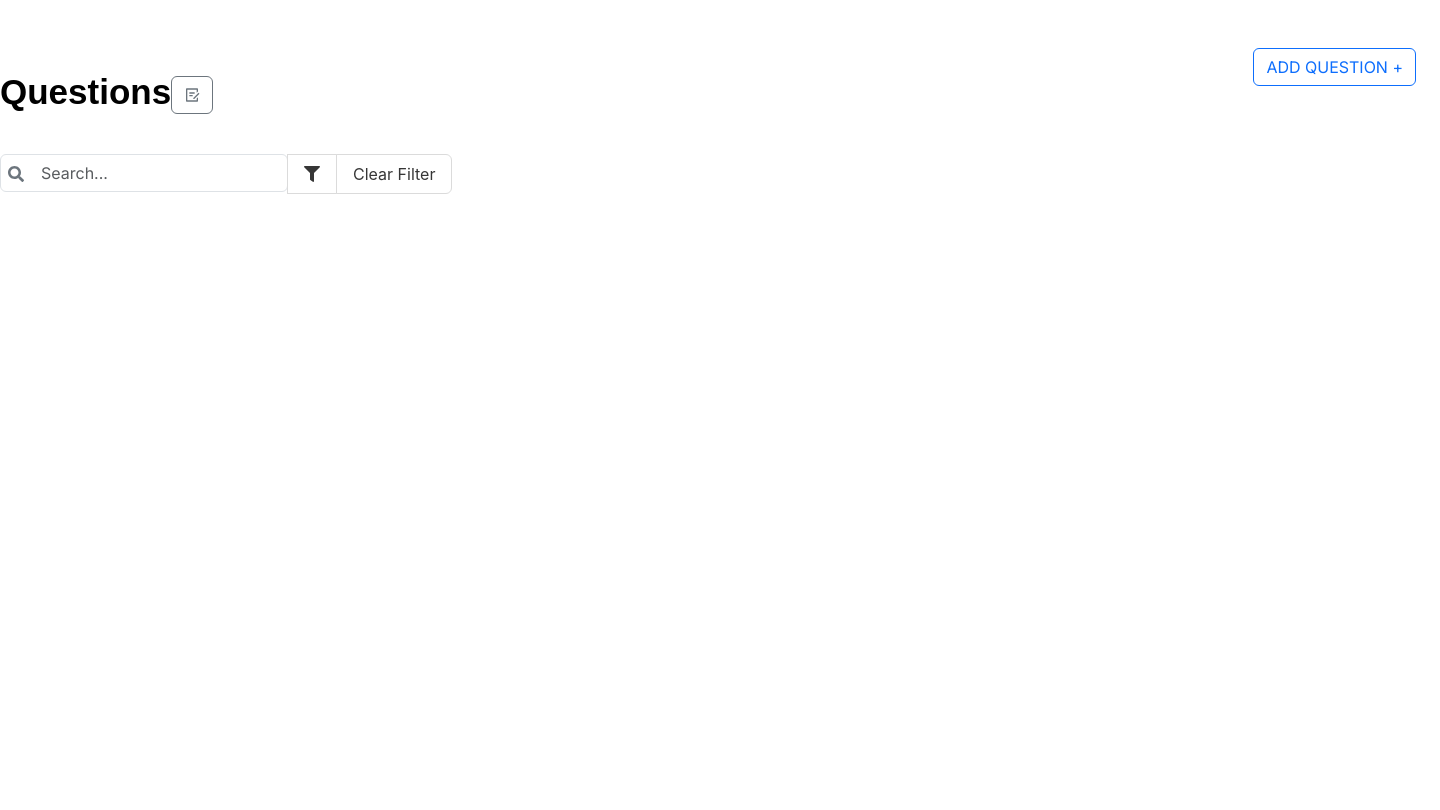
Question_list Component › handle filter button
Click the button with test id "filter" at (312, 174), box [287,154,337,194]
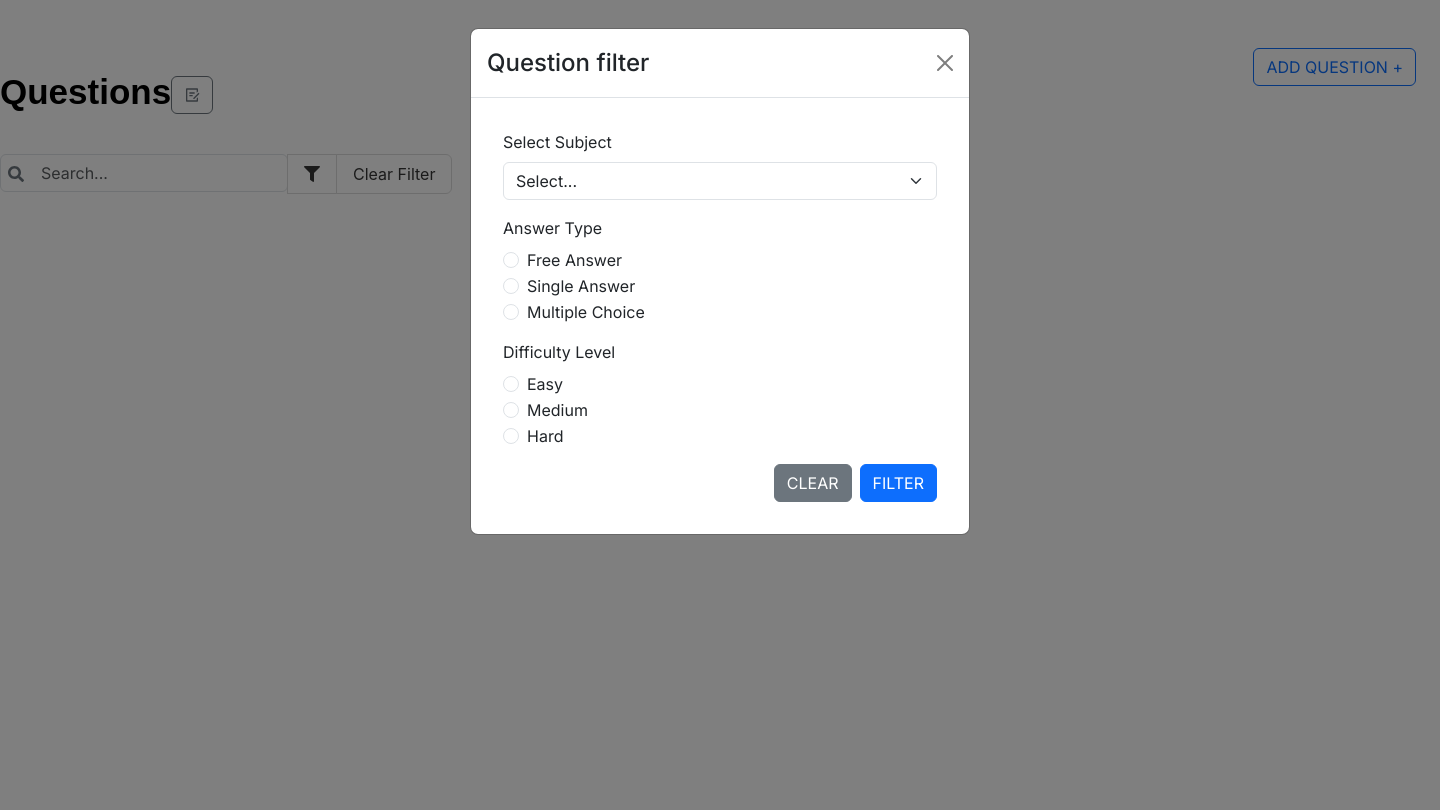
expect the text "Question filter" is shown: met, box [487,45,649,81]
